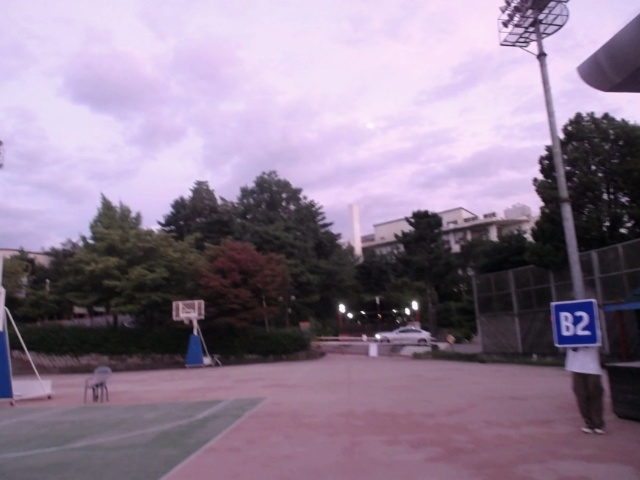delivery_b2: (550, 300, 599, 347)
